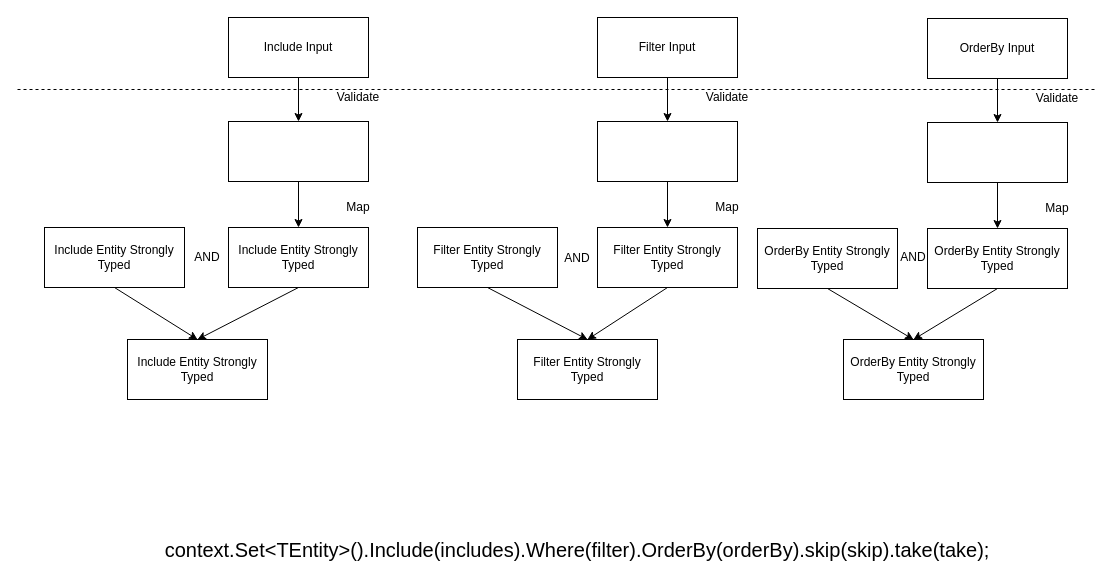
Image size: 1116x579. Some labels were removed from this diagram. The shapes that lost their labels are listed below. From the top down, each one's centre as x and y in pixels, then its label:
At pixel 298 151: "Include DTO Strongly Typed".
At pixel 667 151: "Filter DTO Strongly Typed".
At pixel 997 152: "OrderBy DTO Strongly Typed".
